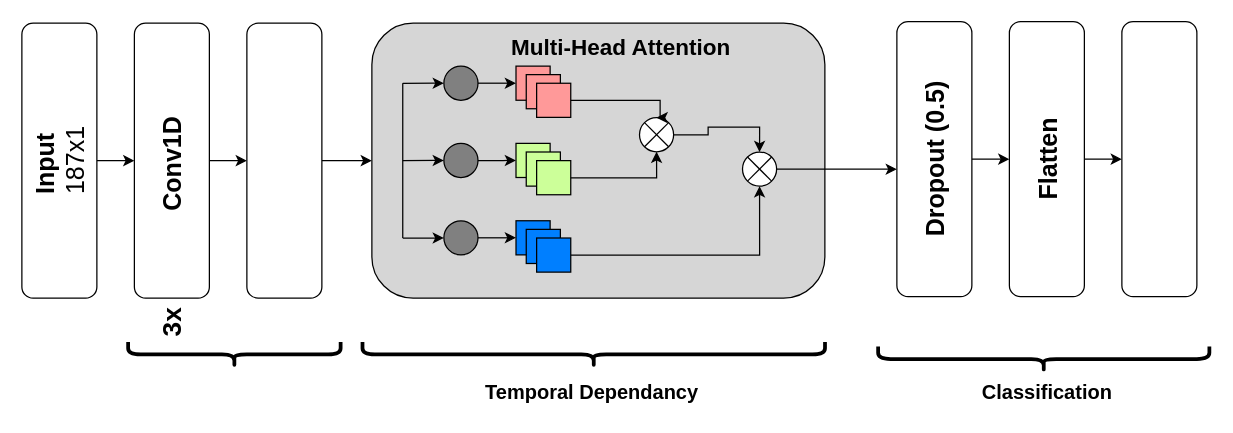
The diagram is 1233 pixels wide and 433 high, and some of its shapes have lost their labels. Each missing label, with the centre of its shape:
Dense (5 class): the point at 1159,158
Feature Extraction: the point at 234,353
Max-pooling: the point at 284,160
